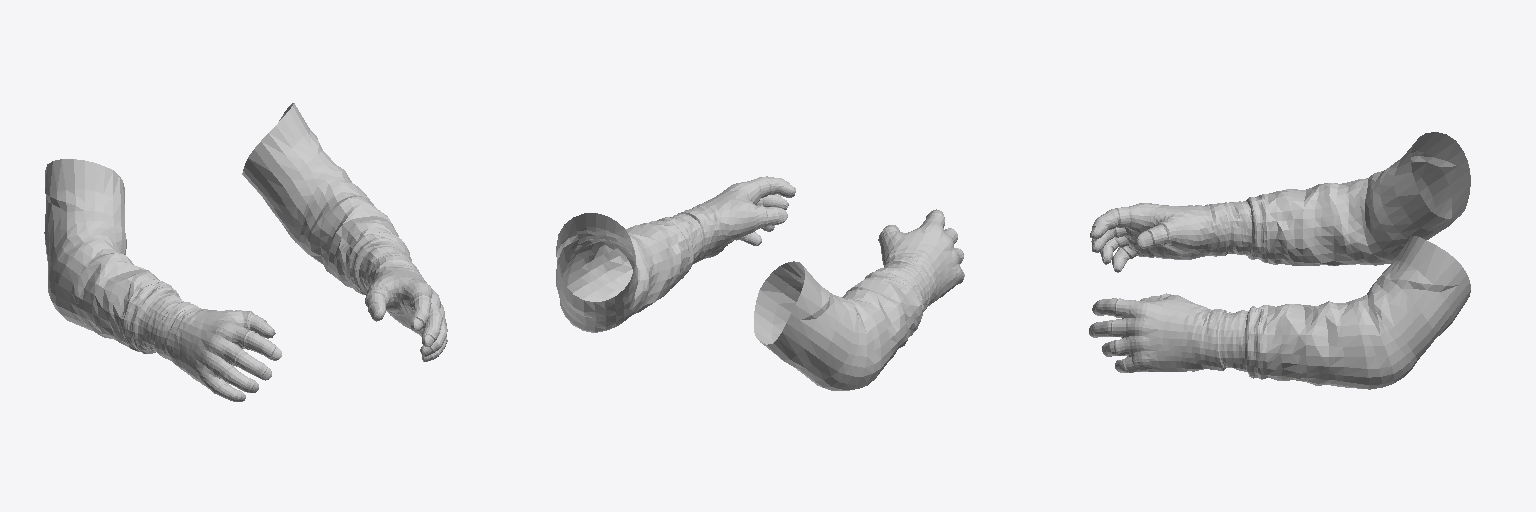
File: fpsarms.obj
3 views of the same model, side by side, from view 1: azimuth 30°, elevation 25°; view 2: azimuth 150°, elevation 25°; view 3: azimuth 270°, elevation 25° (orthographic).
Visible parts, largest first — view 1: arms; view 2: arms; view 3: arms.
Boxes of the visible parts, box(x1,y1,x2,y2) form: arms: box(44, 103, 447, 401); arms: box(556, 176, 964, 390); arms: box(1089, 132, 1470, 389).
Size of the model in its own units: 0.6631 by 0.2827 by 0.7002.